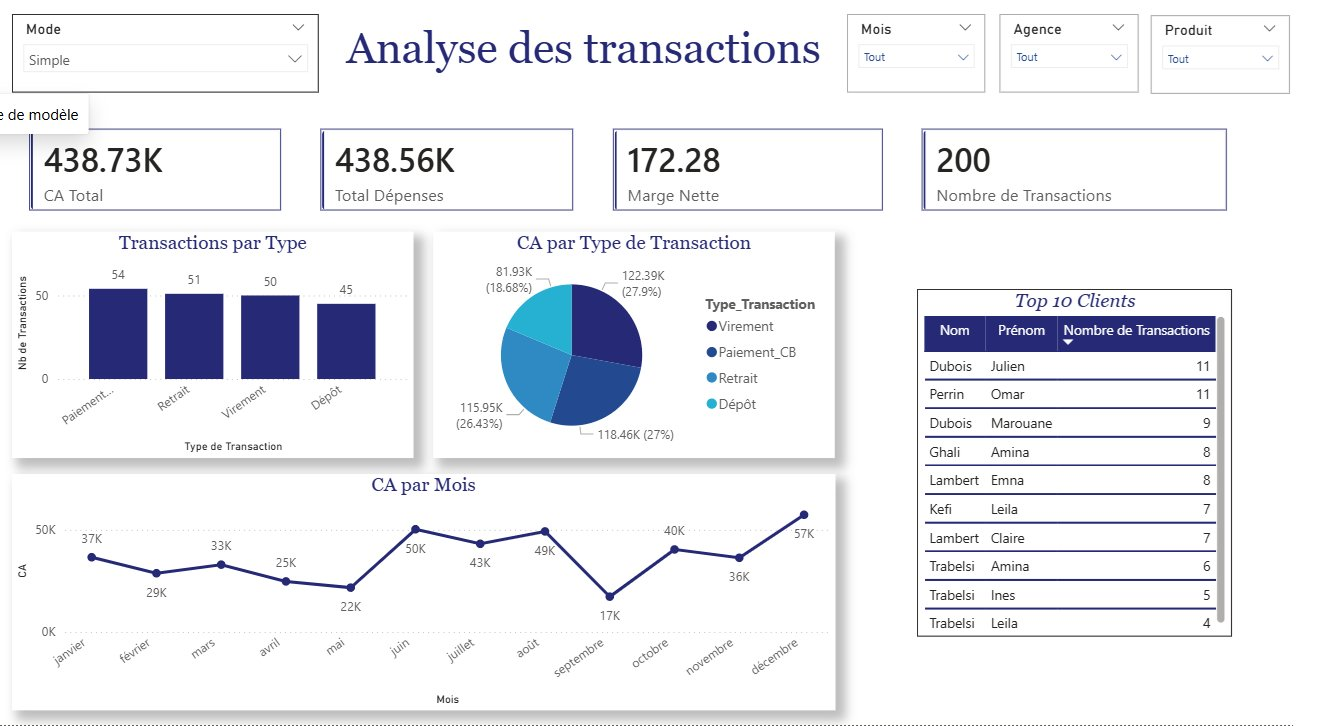

This screenshot's page, from the dashboard's own definition file:
{"tool":"powerbi","page":{"name":"Analyse des Transactions","canvas":[1280,720],"ordinal":0},"visuals":[{"type":"cardVisual","fields":{"Data":["_Measures.CA Total"]},"box":[25,119.9,280,114.3],"z":0},{"type":"cardVisual","fields":{"Data":["_Measures.Total Depenses"]},"box":[309.3,119.9,281.4,114.3],"z":1000},{"type":"cardVisual","fields":{"Data":["_Measures.Marge Nette"]},"box":[595,119.9,298.6,114.3],"z":2000},{"type":"cardVisual","fields":{"Data":["_Measures.Nb Transactions"]},"box":[897.9,119.9,332.9,114.3],"z":3000},{"type":"clusteredColumnChart","title":"Transactions par Type","fields":{"Category":["DWH DIM_TYPE_TRANSACTION.Type_Transaction"],"Y":["_Measures.Nb Transactions"]},"box":[24.8,237,393,221.3],"z":4000},{"type":"pieChart","title":"CA par Type de Transaction","fields":{"Category":["DWH DIM_TYPE_TRANSACTION.Type_Transaction"],"Y":["_Measures.CA Total"]},"box":[437.1,237,393,221.3],"z":5000},{"type":"lineChart","title":"CA par Mois","fields":{"Category":["DWH DIM_DATE.Date_Full.Variation.Hiérarchie de dates.Mois"],"Y":["_Measures.CA Dynamique"]},"box":[24.8,474,805.4,231.6],"z":6000},{"type":"tableEx","title":"Top 10 Clients","fields":{"Values":["DWH DIM_CLIENT.Nom_Client","DWH DIM_CLIENT.Prenom_Client","_Measures.Nb Transactions"]},"box":[910.1,293.7,307.6,339.6],"z":7000},{"type":"textbox","box":[335.7,28.3,494.8,71.7],"z":9000},{"type":"slicer","fields":{"Values":["DWH DIM_DATE.Mois"]},"box":[841.9,24.1,135.6,77.1],"z":10000},{"type":"slicer","fields":{"Values":["DWH DIM_AGENCE.Nom_Agence"]},"box":[990.7,24.7,136.2,77.1],"z":11000},{"type":"slicer","fields":{"Values":["DWH DIM_PRODUIT.Nom_Produit"]},"box":[1139,25.9,136.2,77.1],"z":12000},{"type":"slicer","fields":{"Values":["Mode Affichage.Mode"]},"box":[25,25,300,76.7],"z":13000}]}

Visuals, with their boxes on the page's 1280x720 design canvas (x1, y1, x2, y2). These are canvas units, not pixel positions in the 1319x726 screenshot, which may show the page scaled, cropped or inside an application window:
cardVisual - _Measures.CA Total: x1=25, y1=120, x2=305, y2=234
cardVisual - _Measures.Total Depenses: x1=309, y1=120, x2=591, y2=234
cardVisual - _Measures.Marge Nette: x1=595, y1=120, x2=894, y2=234
cardVisual - _Measures.Nb Transactions: x1=898, y1=120, x2=1231, y2=234
"Transactions par Type" clusteredColumnChart: x1=25, y1=237, x2=418, y2=458
"CA par Type de Transaction" pieChart: x1=437, y1=237, x2=830, y2=458
"CA par Mois" lineChart: x1=25, y1=474, x2=830, y2=706
"Top 10 Clients" tableEx: x1=910, y1=294, x2=1218, y2=633
textbox: x1=336, y1=28, x2=830, y2=100
slicer - DWH DIM_DATE.Mois: x1=842, y1=24, x2=978, y2=101
slicer - DWH DIM_AGENCE.Nom_Agence: x1=991, y1=25, x2=1127, y2=102
slicer - DWH DIM_PRODUIT.Nom_Produit: x1=1139, y1=26, x2=1275, y2=103
slicer - Mode Affichage.Mode: x1=25, y1=25, x2=325, y2=102
